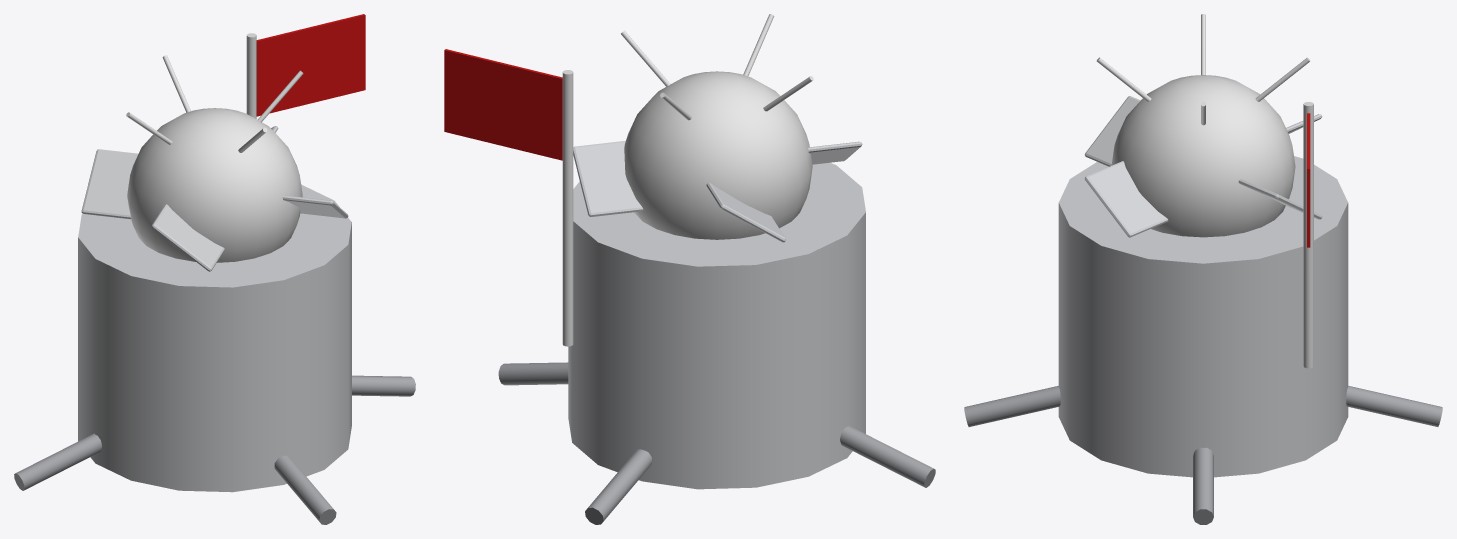
The model's file is mission-luna.glb.
3 views of the same model, side by side, from view 1: azimuth 30°, elevation 25°; view 2: azimuth 150°, elevation 25°; view 3: azimuth 270°, elevation 25° (orthographic). The views are drawn at different scales.
Visible parts, largest first — view 1: stage, capsule, flagcloth, petal_1, petal_2, leg_2, leg_3, leg_0, flagpole, petal_3; view 2: stage, capsule, flagcloth, petal_0, flagpole, leg_2, leg_1, leg_0, petal_1, petal_2; view 3: stage, capsule, petal_3, flagpole, leg_1, leg_3, leg_0, petal_2.
Part boxes in pixels (x1,y1,x2,y2): stage: [78, 184, 351, 492]; capsule: [127, 108, 302, 262]; flagcloth: [256, 14, 365, 116]; petal_1: [81, 149, 138, 219]; petal_2: [151, 204, 224, 271]; leg_2: [14, 433, 101, 490]; leg_3: [274, 455, 336, 524]; leg_0: [352, 375, 415, 396]; flagpole: [246, 33, 256, 118]; petal_3: [282, 195, 348, 218]; stage: [568, 162, 865, 489]; capsule: [624, 71, 812, 239]; flagcloth: [444, 49, 562, 160]; petal_0: [573, 140, 643, 216]; flagpole: [562, 70, 573, 346]; leg_2: [840, 425, 935, 487]; leg_1: [585, 449, 651, 524]; leg_0: [498, 362, 568, 385]; petal_1: [706, 183, 785, 242]; petal_2: [808, 141, 862, 164]; stage: [1058, 156, 1348, 477]; capsule: [1111, 75, 1295, 237]; petal_3: [1084, 161, 1168, 237]; flagpole: [1303, 102, 1313, 368]; leg_1: [1346, 386, 1442, 426]; leg_3: [964, 386, 1060, 426]; leg_0: [1193, 447, 1213, 524]; petal_2: [1084, 96, 1140, 166].
Bounding box in the file's own units: 2.29 × 1.93 × 2.27.
4 materials, 1 textured.
